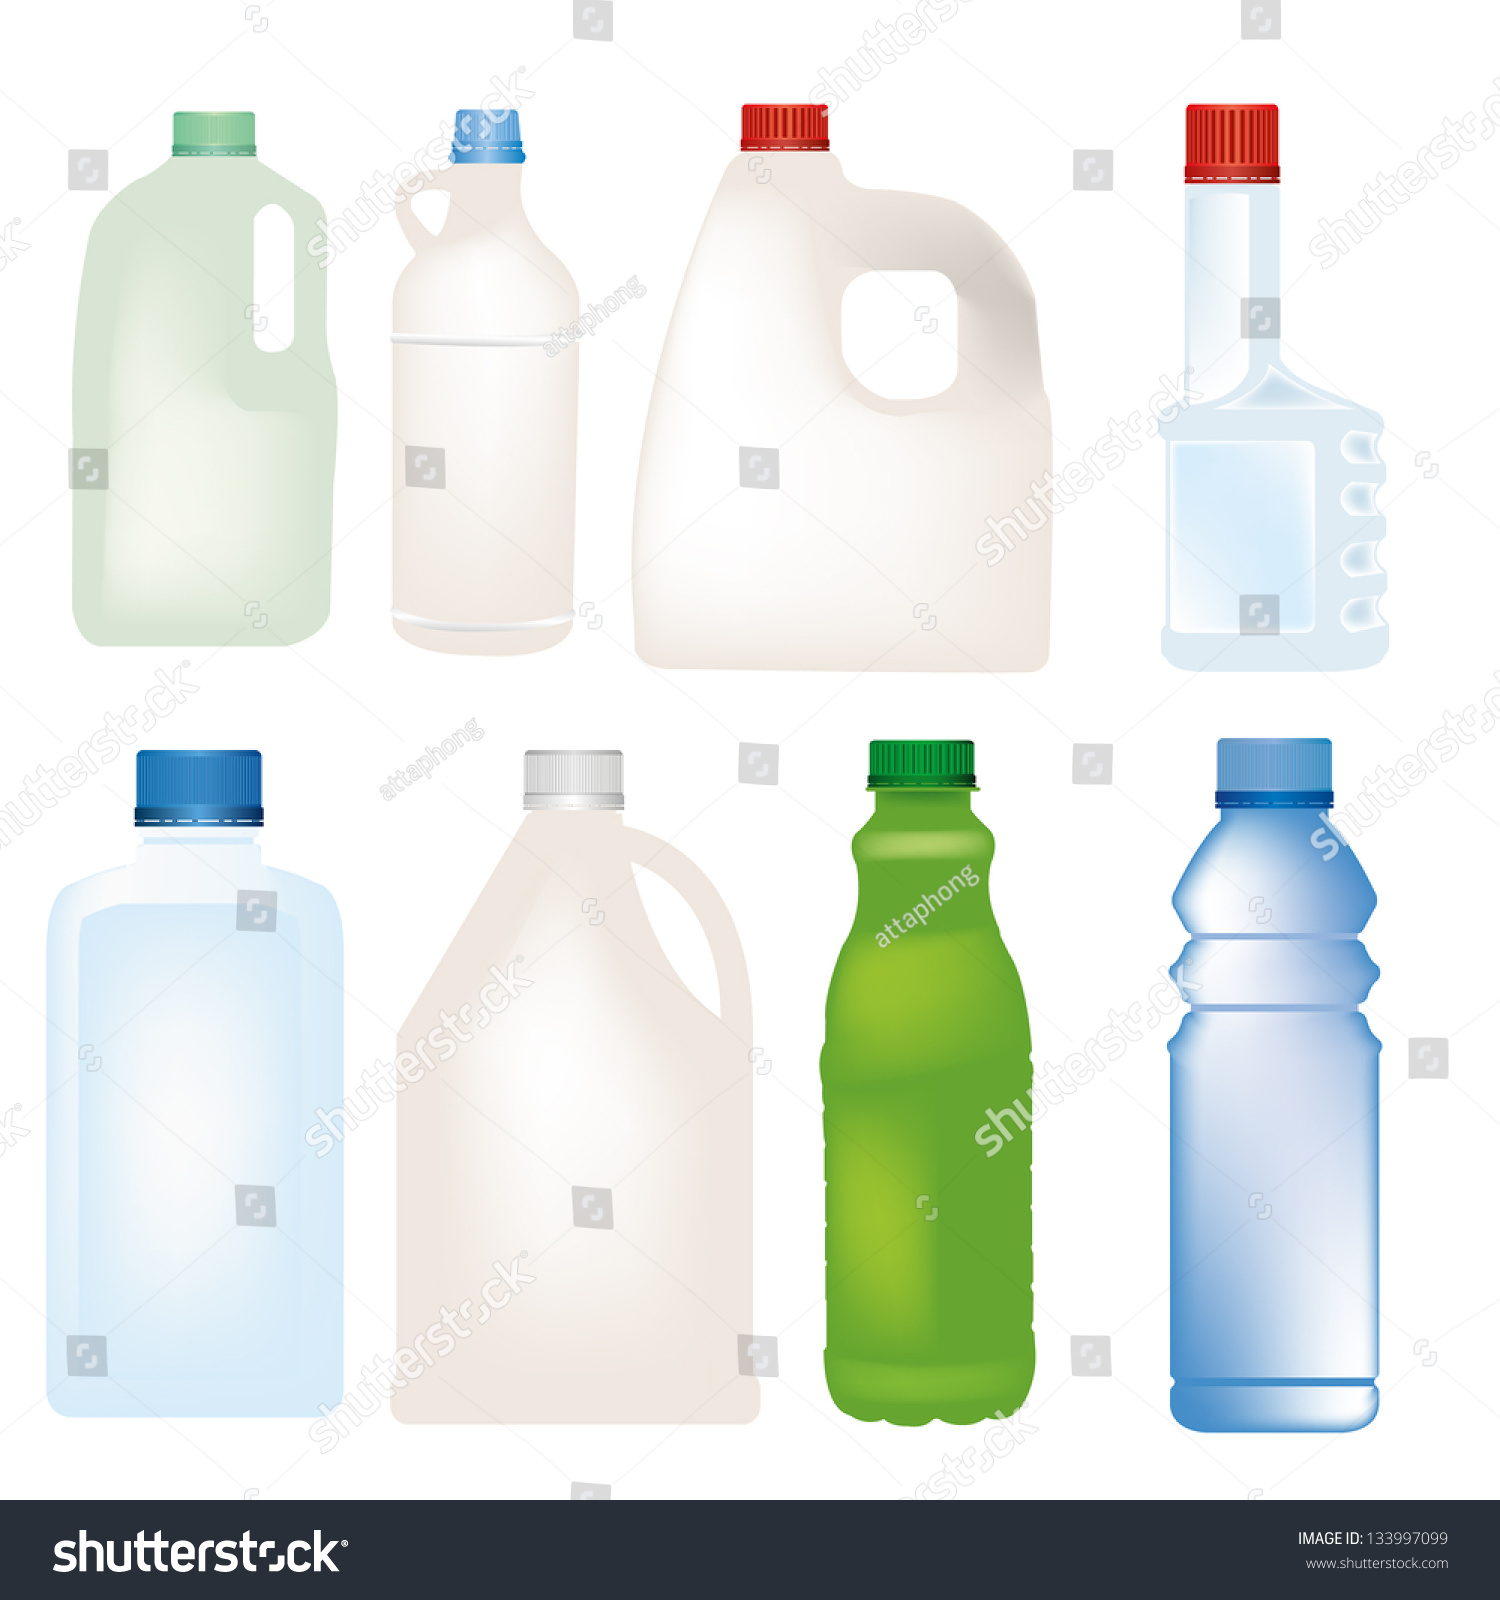plastic_bottle: (389, 718, 771, 1439), (629, 82, 1076, 674), (32, 730, 365, 1429), (787, 723, 1076, 1431), (1141, 720, 1415, 1459), (61, 101, 362, 663), (1162, 94, 1401, 684), (374, 99, 610, 684)
